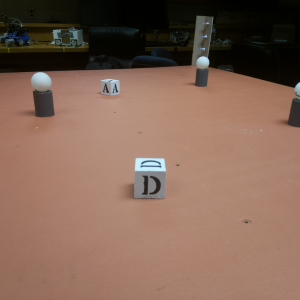blockA: (101, 77, 119, 96)
blockD: (133, 156, 167, 201)
corner: (192, 13, 211, 67)
obstacle: (31, 70, 55, 116), (193, 55, 211, 88)
